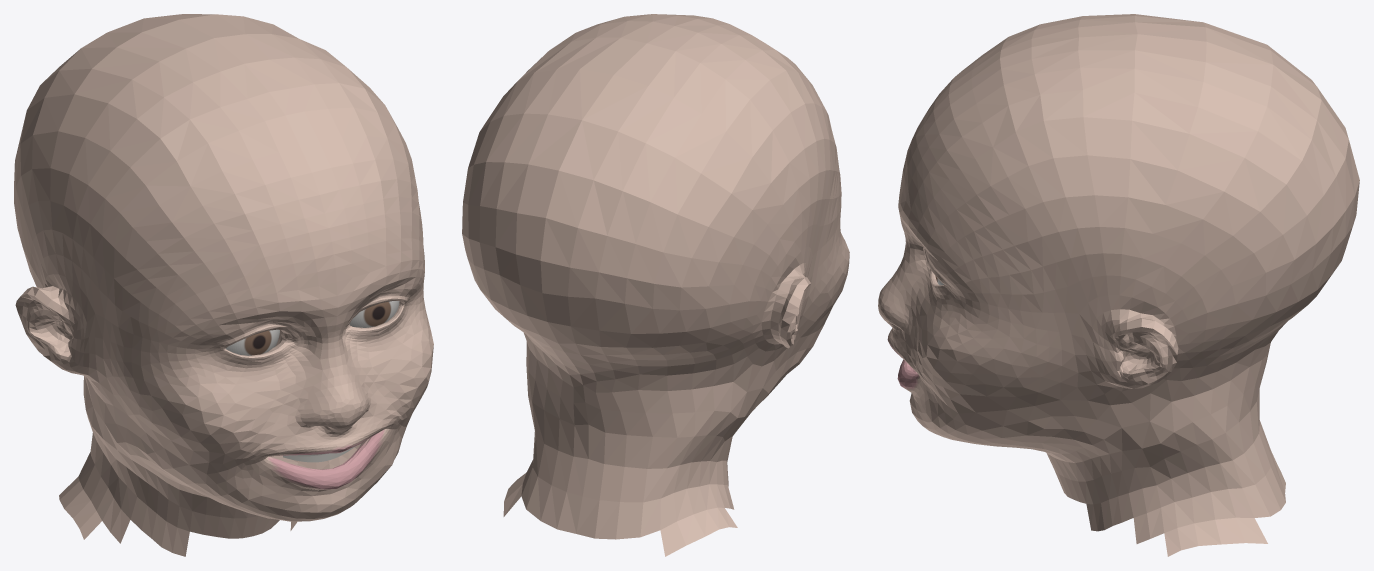
Rendered from karma_face_MH_smile_AH.glb.
3 views of the same model, side by side, from view 1: azimuth 30°, elevation 25°; view 2: azimuth 150°, elevation 25°; view 3: azimuth 270°, elevation 25° (orthographic). The views are drawn at different scales.
Visible parts, largest first — view 1: head; view 2: head; view 3: head.
Boxes of the visible parts, x1,y1,x2,y2 form: head: (14, 14, 433, 556); head: (462, 14, 849, 556); head: (878, 14, 1359, 556).
Size of the model in its own units: 3.03 by 3.91 by 3.62.
